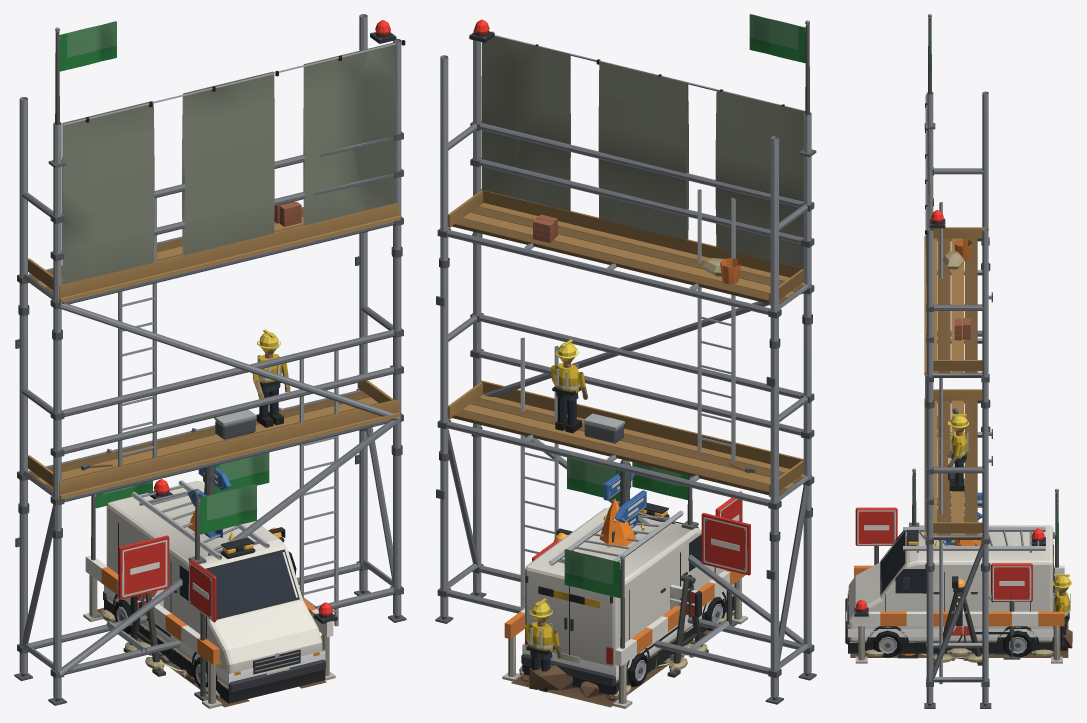
Rendered from crowd-near.glb.
3 views of the same model, side by side, from view 1: azimuth 30°, elevation 25°; view 2: azimuth 150°, elevation 25°; view 3: azimuth 270°, elevation 25° (orthographic). The views are drawn at different scales.
Parts seen in each view (by area): view 1: ScaffoldNear, VanNear, TrenchNear, RoadblockNear, HoardFlagNear, SignpostNear; view 2: ScaffoldNear, VanNear, TrenchNear, RoadblockNear, SignpostNear, HoardFlagNear, FireNear; view 3: ScaffoldNear, VanNear, TrenchNear, RoadblockNear, PotholeNear.
Part boxes in pixels (x1=…): ScaffoldNear: x1=14, y1=14, x2=406, y2=705; VanNear: x1=103, y1=479, x2=325, y2=703; TrenchNear: x1=83, y1=481, x2=337, y2=708; RoadblockNear: x1=123, y1=527, x2=285, y2=676; HoardFlagNear: x1=214, y1=452, x2=269, y2=493; SignpostNear: x1=187, y1=465, x2=231, y2=537; ScaffoldNear: x1=435, y1=14, x2=816, y2=704; VanNear: x1=521, y1=462, x2=734, y2=695; TrenchNear: x1=502, y1=491, x2=747, y2=708; RoadblockNear: x1=553, y1=528, x2=708, y2=677; SignpostNear: x1=603, y1=459, x2=646, y2=542; HoardFlagNear: x1=567, y1=457, x2=620, y2=501; FireNear: x1=599, y1=498, x2=683, y2=669; ScaffoldNear: x1=924, y1=14, x2=992, y2=708; VanNear: x1=845, y1=468, x2=1071, y2=659; TrenchNear: x1=850, y1=489, x2=1072, y2=663; RoadblockNear: x1=933, y1=576, x2=982, y2=665; PotholeNear: x1=898, y1=626, x2=1007, y2=658.
Size of what is drawn, in the model's own units: 4.45 by 8.16 by 3.02.
